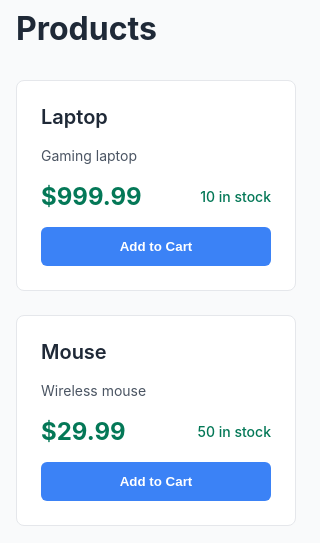
Scenario: Home Advanced Tests › Add to Cart Error Scenarios › shows error when add to cart fails with Error instance
This screenshot has width=320, height=543.
Expected: the heading "Laptop" is shown, [41,104,108,128]
Click the button "Add to Cart" below "999.99". click: {"x": 156, "y": 246}
box: [41,226,271,266]
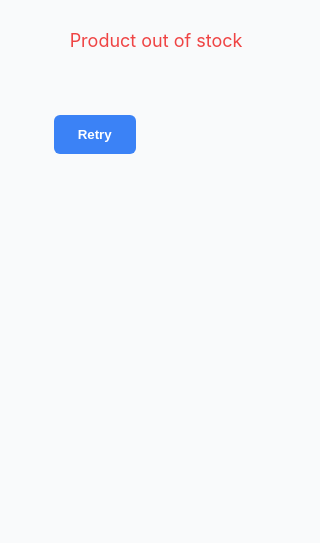
Now the text "Product out of stock" is shown, box [70,30,242,51]
